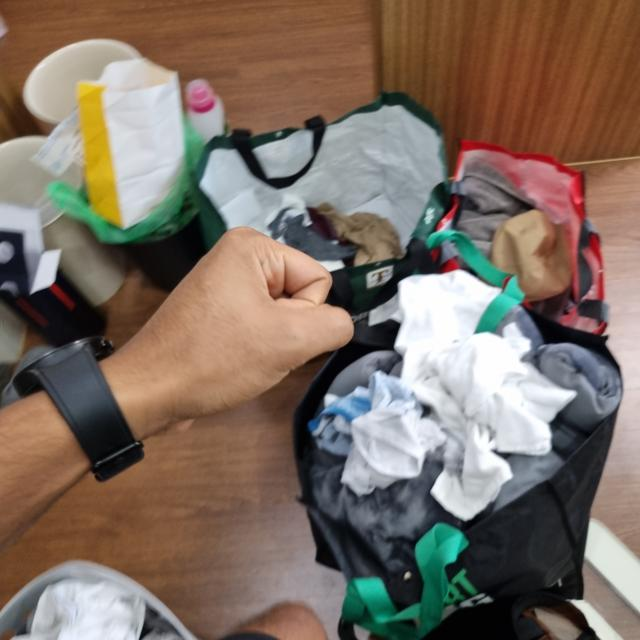Rock: (91, 226, 357, 637)
